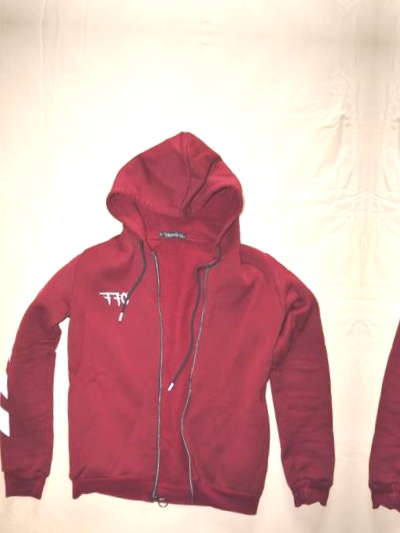Hoodie: (0, 114, 355, 533), (364, 134, 400, 533)
